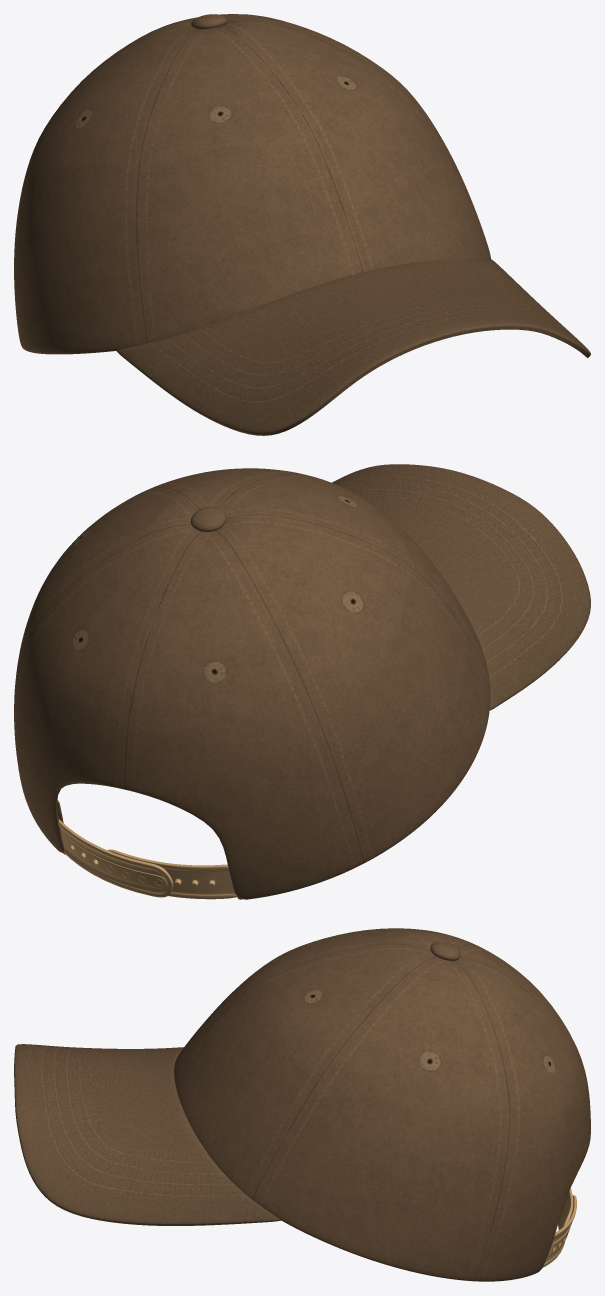
The model's file is Gorra.glb.
3 views of the same model, one above another, from view 1: azimuth 30°, elevation 25°; view 2: azimuth 150°, elevation 25°; view 3: azimuth 270°, elevation 25° (orthographic). The views are drawn at different scales.
Parts seen in each view (by area): view 1: baseballCap (×2); view 2: baseballCap (×3), plastic (×2); view 3: baseballCap (×2), plastic.
Boxes of the visible parts, x1,y1,x2,y2 form: baseballCap (×2): (14, 14, 590, 435); baseballCap (×3): (14, 464, 590, 899); plastic (×2): (58, 819, 237, 899); baseballCap (×2): (14, 928, 590, 1281); plastic: (543, 1195, 576, 1267).
Bounding box in the file's own units: 191 × 147 × 263.
Materials: 7 (4 with a texture image).
